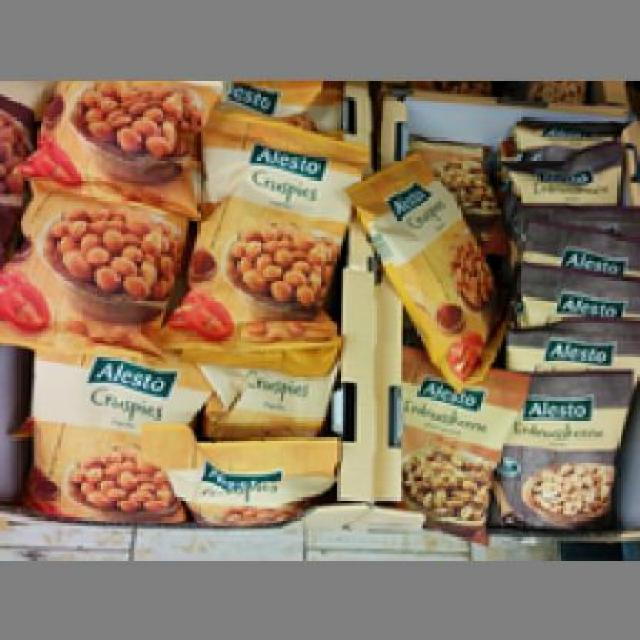Nuts: (148, 100, 366, 374), (343, 146, 511, 388), (0, 176, 186, 370), (22, 351, 208, 524), (397, 346, 523, 543)
